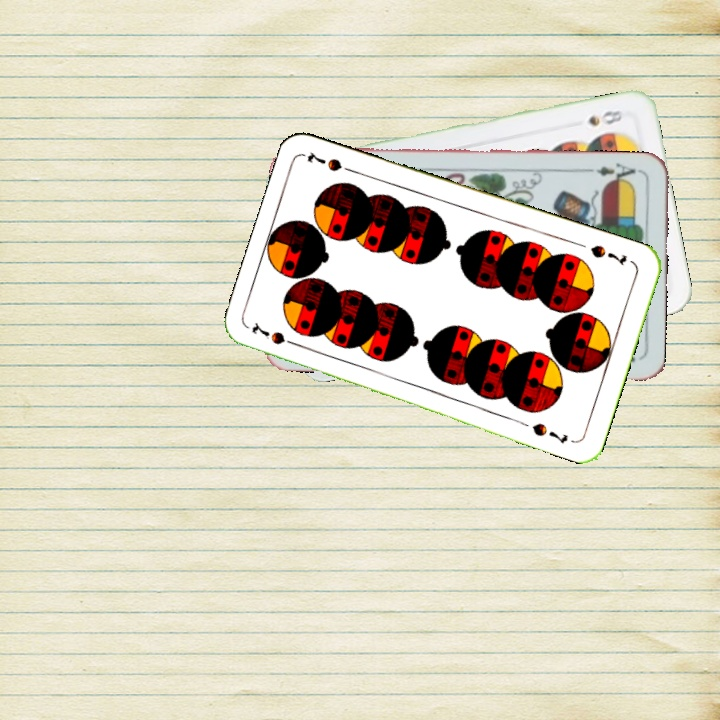EA: (584, 158, 643, 186)
S7: (248, 319, 304, 350), (586, 241, 630, 268)
S8: (584, 106, 625, 129)
